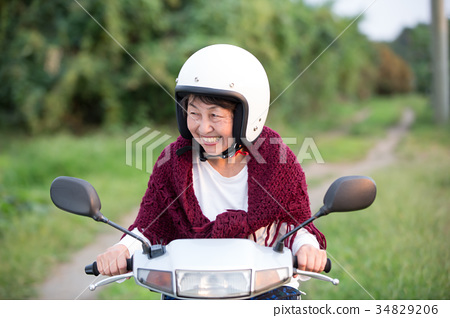helmet: (175, 49, 273, 132)
